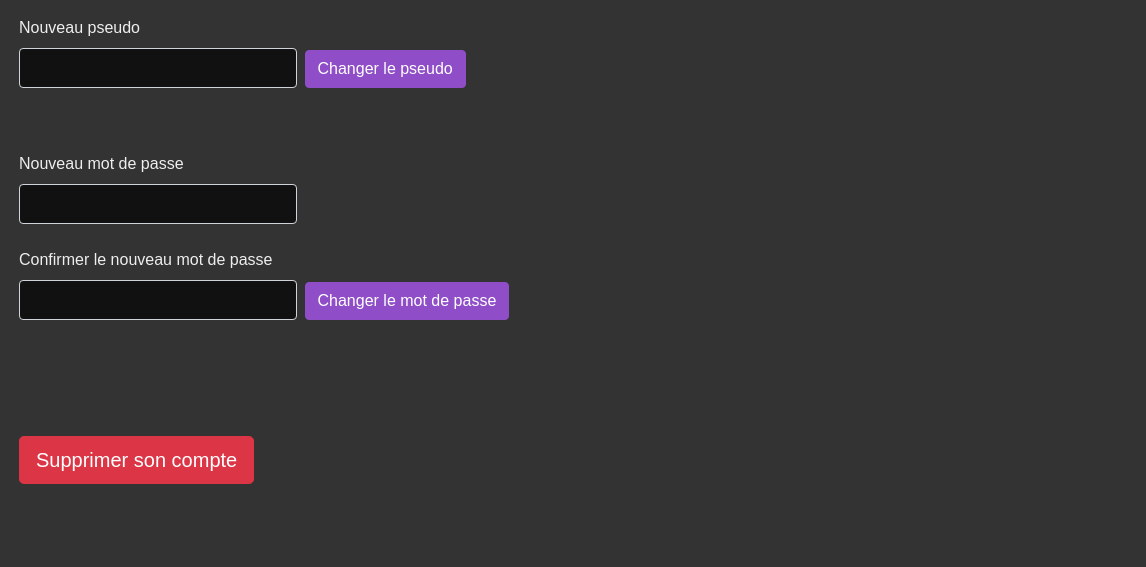
Test case: Error if the nickname have anything other than letters and numbers
Type "Jadzia3@" into the field labelled "Nouveau pseudo" at (158, 68), box [19,48,296,88]
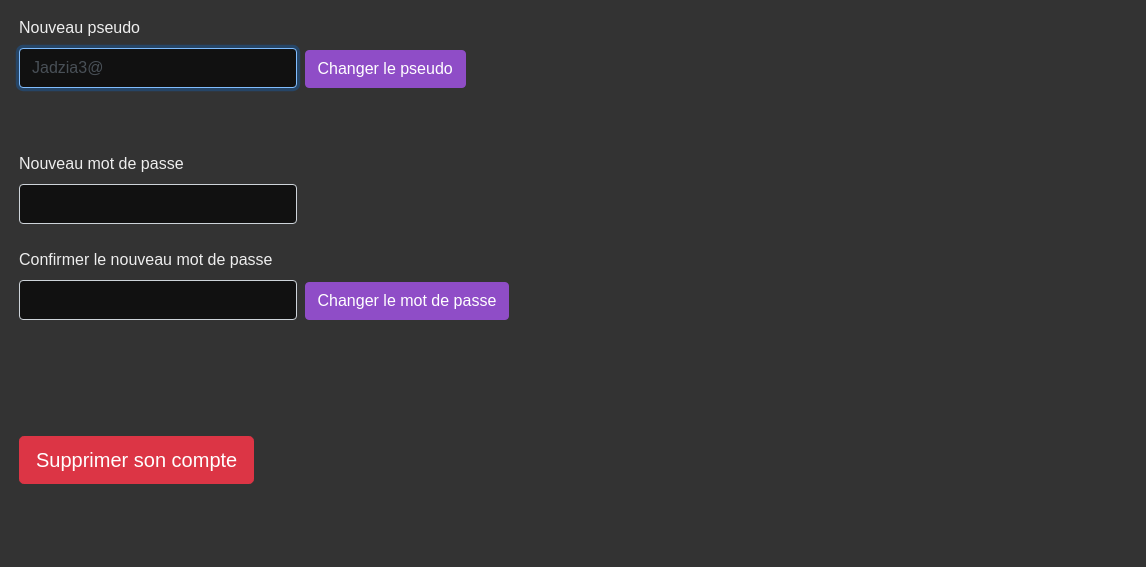
Click the button "Changer le pseudo" at (385, 69), box [304,50,466,88]
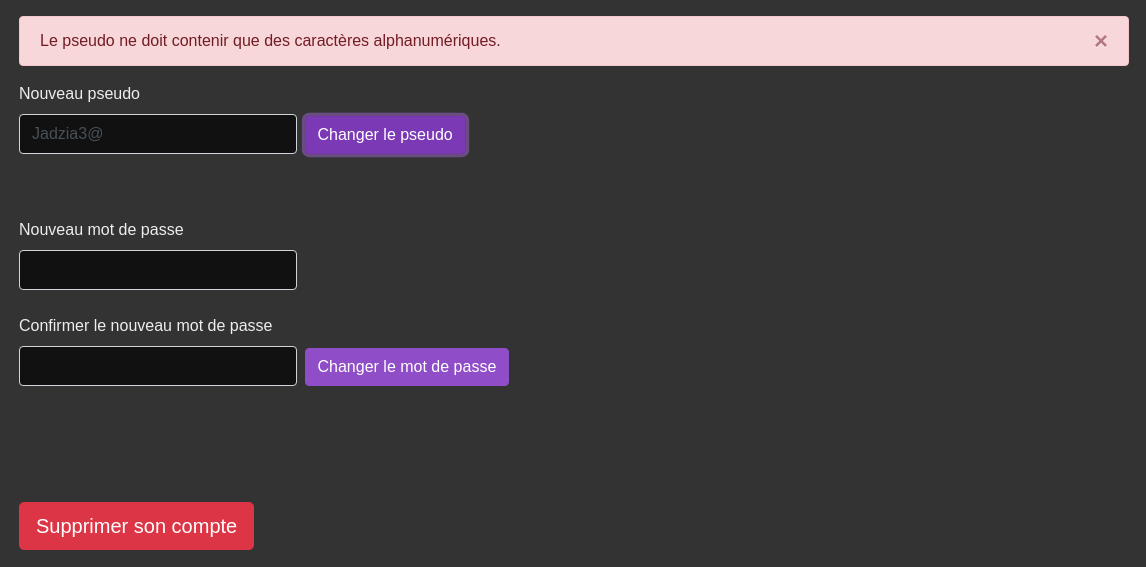
Expected: the message shows "Le pseudo ne doit contenir que des caractères alphanumériques.", [40,32,501,49]
